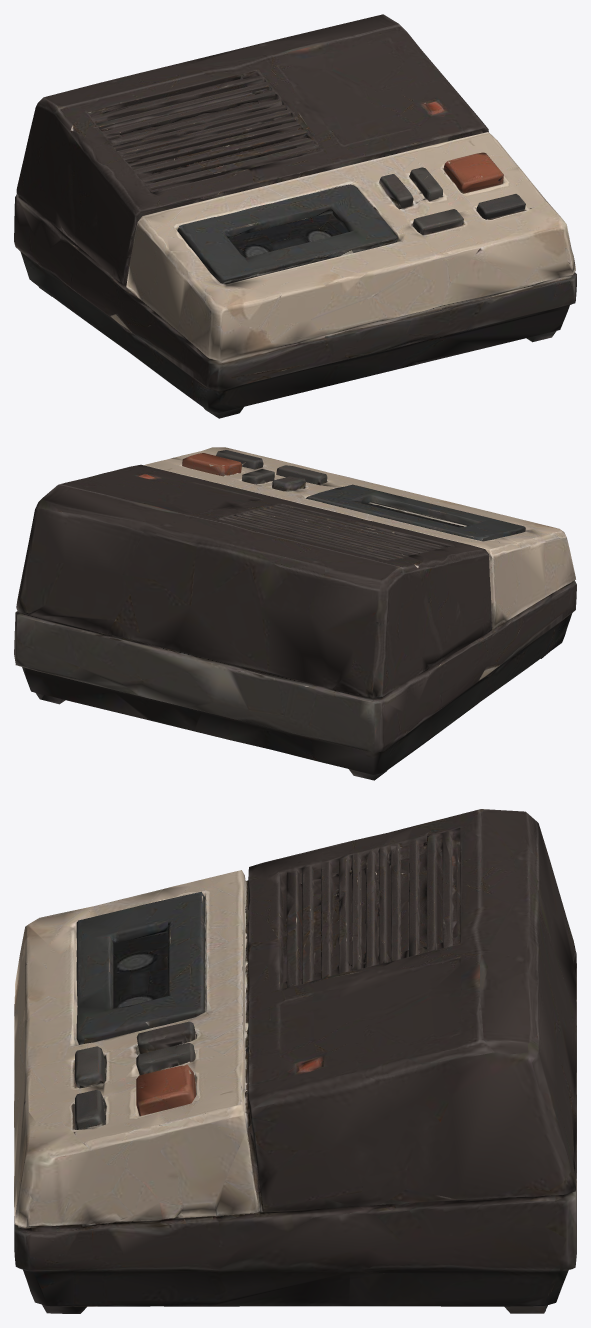
Rendered from machine.glb.
The picture shows the model from 3 angles, top to bottom: view 1: azimuth 30°, elevation 25°; view 2: azimuth 150°, elevation 25°; view 3: azimuth 270°, elevation 25°; orthographic projection. The views are drawn at different scales.
Size of the model in its own units: 1.9 by 0.9741 by 1.8.
1 material, 1 textured.
